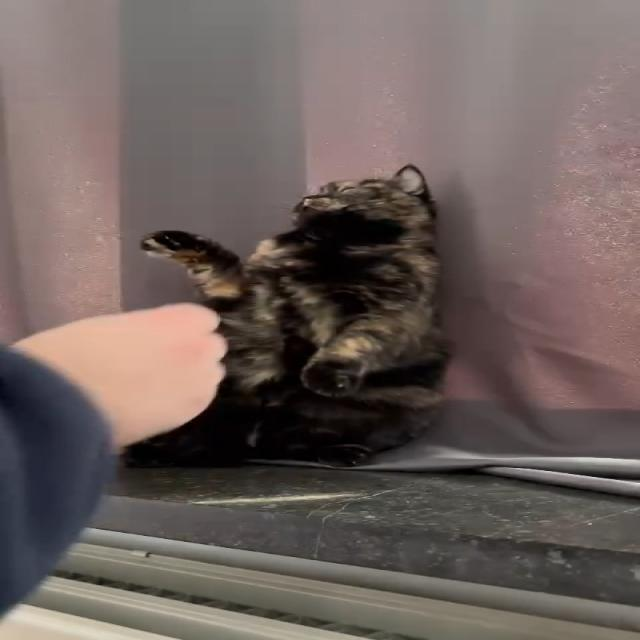authorized: (120, 163, 452, 469)
